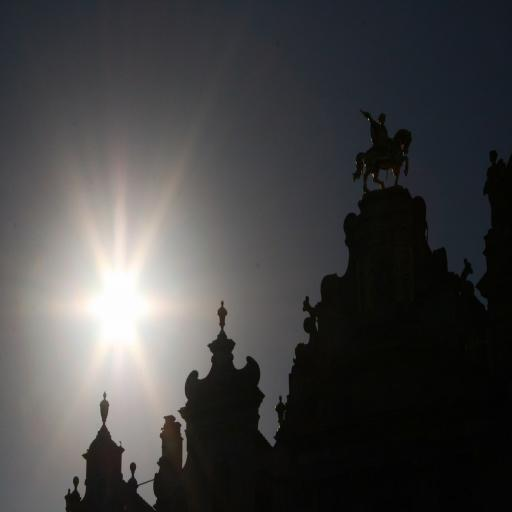Horse: (351, 128, 413, 195)
